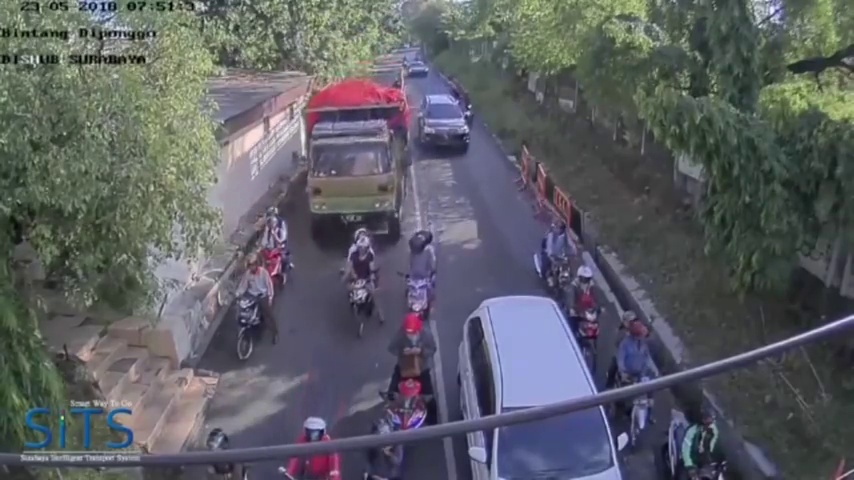car: (305, 81, 408, 248), (421, 93, 471, 153)
motorbike: (382, 318, 436, 441), (227, 254, 279, 366), (612, 302, 649, 441), (343, 227, 383, 338), (562, 263, 600, 377), (402, 229, 443, 328), (256, 212, 294, 291), (534, 217, 572, 293)
